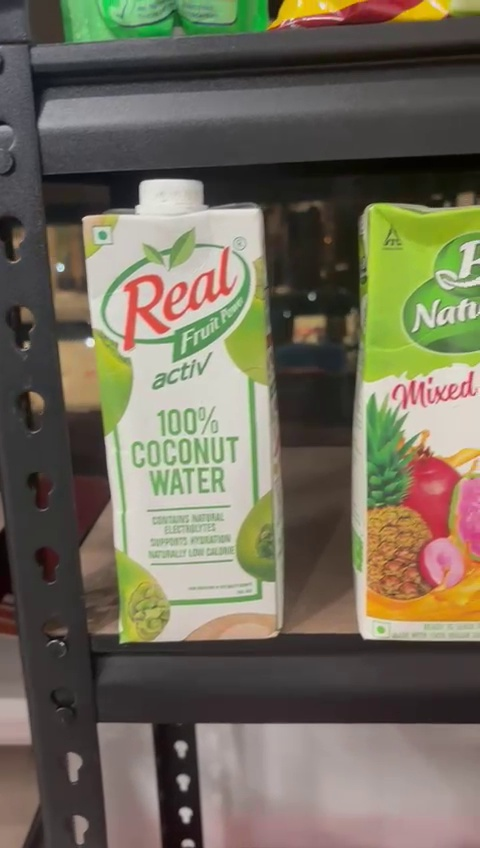Coconut water: (80, 185, 284, 635)
